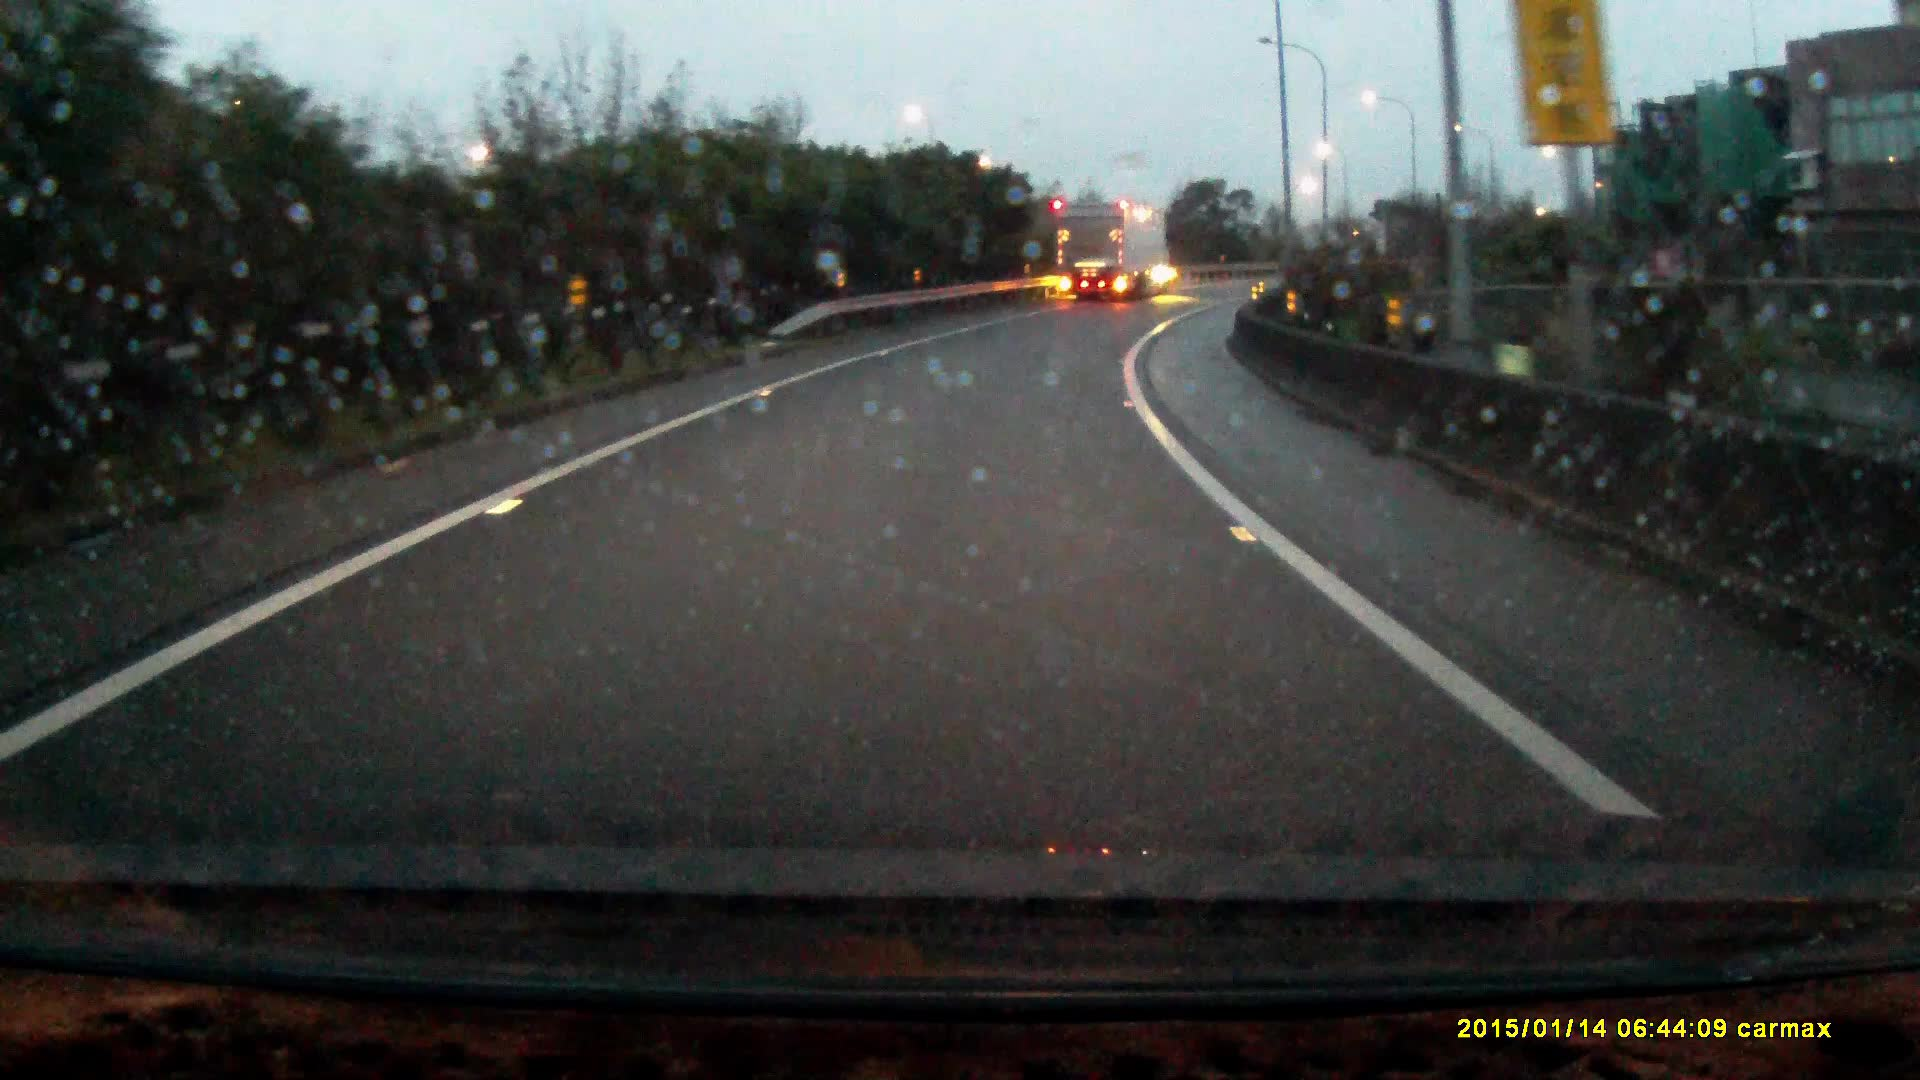vehicle: (1058, 196, 1182, 301)
